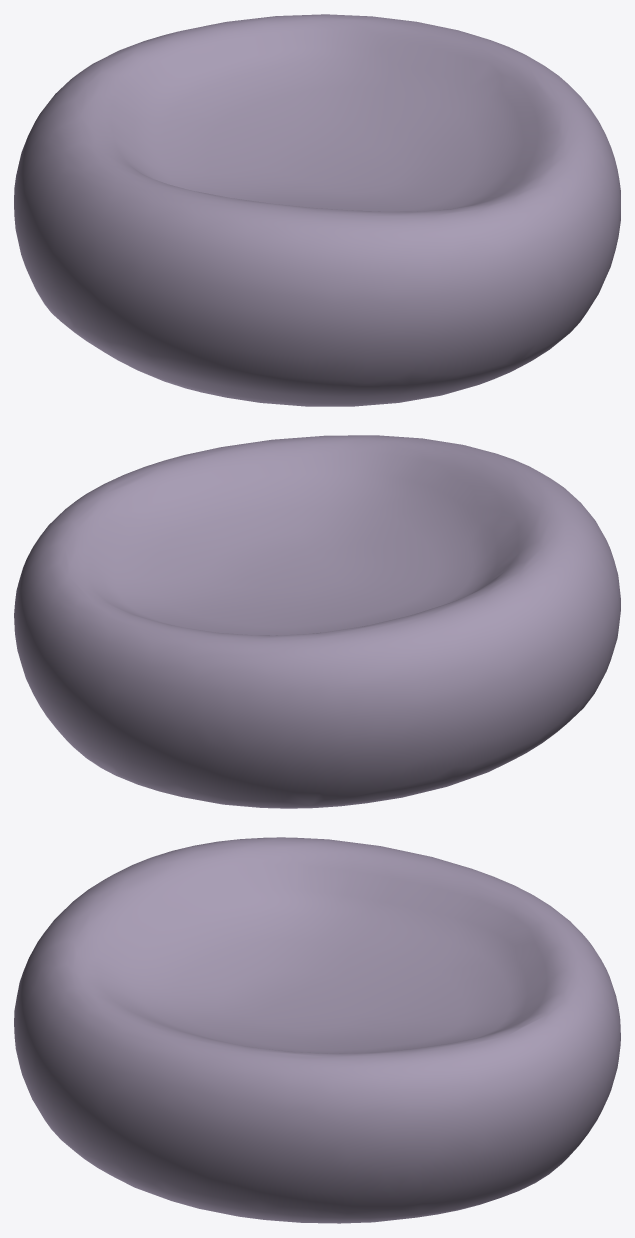
Rendered from catbed.fbx.
3 views of the same model, one above another, from view 1: azimuth 30°, elevation 25°; view 2: azimuth 150°, elevation 25°; view 3: azimuth 270°, elevation 25° (orthographic). The views are drawn at different scales.
Visible parts, largest first — view 1: Sphere.001; view 2: Sphere.001; view 3: Sphere.001.
Boxes of the visible parts, x1,y1,x2,y2 form: Sphere.001: [14, 14, 620, 406]; Sphere.001: [14, 435, 620, 808]; Sphere.001: [14, 837, 620, 1223].
Size of the model in its own units: 367 by 142 by 376.
